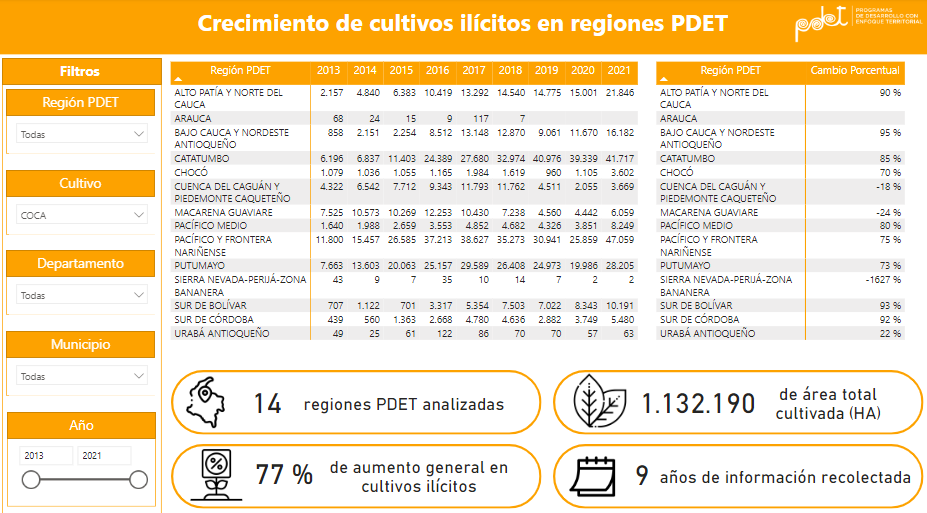

The page's visual inventory and layout, read from the dashboard file:
{"tool":"powerbi","page":{"name":"Datos","canvas":[1280,720],"ordinal":0},"visuals":[{"type":"pivotTable","fields":{"Rows":["BDD.Región PDET"],"Values":["Sum(BDD.Área cultivada (HA))"],"Columns":["Calendario.Date.Variación.Jerarquía de fechas.Año"]},"box":[232.7,82,667.3,395.1],"z":0},{"type":"shape","box":[0,0,1280.5,77.6],"z":1000},{"type":"image","box":[1090.2,0,190.2,71.7],"z":3000},{"type":"textbox","box":[0,5.5,1280,64.7],"z":4000},{"type":"shape","box":[5,82.2,219.8,632.5],"z":5000},{"type":"shape","box":[5,82.2,219.8,36.9],"z":6000},{"type":"textbox","box":[0,82.2,224.8,36.9],"z":7000},{"type":"shape","box":[11.5,125.7,204.9,89.3],"z":7000,"group":"g5"},{"type":"shape","box":[11.7,125.5,204.7,36.9],"z":8000,"group":"g5"},{"type":"group","id":"g1","title":"Grupo 1","box":[11.7,569.3,204.9,130.2],"z":8000},{"type":"slicer","fields":{"Values":["BDD.Región PDET"]},"box":[15.1,162.4,201.3,52],"z":9000,"group":"g5"},{"type":"group","id":"g2","title":"Grupo 2","box":[11.2,458.3,205.1,89.5],"z":9000},{"type":"textbox","box":[11.7,125.9,204.9,36.6],"z":10000,"group":"g5"},{"type":"group","id":"g3","title":"Grupo 3","box":[11.4,347.4,205.1,89.5],"z":10000},{"type":"group","id":"g4","title":"Grupo 4","box":[11.3,236.4,205.1,89.5],"z":11000},{"type":"shape","box":[11.3,236.6,204.9,89.3],"z":11000,"group":"g4"},{"type":"group","id":"g5","title":"Grupo 5","box":[11.5,125.5,205.1,89.5],"z":12000},{"type":"shape","box":[11.5,236.4,204.7,36.9],"z":12000,"group":"g4"},{"type":"tableEx","fields":{"Values":["BDD.Región PDET","BDD.Cambio Porcentual"]},"box":[900,82,374.6,395.1],"z":13000},{"type":"slicer","fields":{"Values":["BDD.CULTIVO"]},"box":[14.9,273.3,201.3,52],"z":13000,"group":"g4"},{"type":"textbox","box":[11.5,236.8,204.9,36.6],"z":14000,"group":"g4"},{"type":"shape","box":[763.9,511.7,510,88.9],"z":14000},{"type":"shape","box":[11.4,347.6,204.9,89.3],"z":15000,"group":"g3"},{"type":"shape","box":[238.6,511.7,510,88.9],"z":15000},{"type":"shape","box":[11.6,347.4,204.7,36.9],"z":16000,"group":"g3"},{"type":"shape","box":[763.3,614,510,88.9],"z":16000},{"type":"slicer","fields":{"Values":["BDD.Departamento"]},"box":[15,384.3,201.3,52],"z":17000,"group":"g3"},{"type":"shape","box":[238,614,510,88.9],"z":17000},{"type":"textbox","box":[11.6,347.8,204.9,36.6],"z":18000,"group":"g3"},{"type":"image","box":[245.4,511.7,80.5,88.9],"z":18000},{"type":"shape","box":[11.2,458.5,204.9,89.3],"z":19000,"group":"g2"},{"type":"card","fields":{"Values":["Count(BDD.Región PDET)"]},"box":[330.9,508.3,78.8,90.6],"z":19000},{"type":"shape","box":[11.4,458.3,204.7,36.9],"z":20000,"group":"g2"},{"type":"textbox","box":[371.2,523.4,374.1,70.5],"z":20000},{"type":"slicer","fields":{"Values":["BDD.Municipio"]},"box":[14.8,495.2,201.3,52],"z":21000,"group":"g2"},{"type":"image","box":[259.9,614,80.5,85.6],"z":21000},{"type":"textbox","box":[11.4,458.7,204.9,36.6],"z":22000,"group":"g2"},{"type":"card","fields":{"Values":["BDD.Cambio Porcentual"]},"box":[340.4,609,107.4,87.2],"z":22000},{"type":"textbox","box":[422.6,625.7,313.7,68.8],"z":23000},{"type":"card","fields":{"Values":["Sum(BDD.Área cultivada (HA))"]},"box":[861.2,510,203,85.6],"z":24000},{"type":"shape","box":[11.8,569.7,204.9,130.2],"z":24000,"group":"g1"},{"type":"image","box":[784,511.7,88.9,83.9],"z":25000},{"type":"shape","box":[11.7,569.3,204.7,36.9],"z":25000,"group":"g1"},{"type":"textbox","box":[1030.6,525.1,223.1,68.8],"z":26000},{"type":"textbox","box":[11.7,569.7,204.9,36.6],"z":26000,"group":"g1"},{"type":"slicer","fields":{"Values":["Calendario.Date.Variación.Jerarquía de fechas.Año"]},"box":[16.2,606.3,197.6,80.5],"z":26500,"group":"g1"},{"type":"card","fields":{"Values":["Count(BDD.AÑO)"]},"box":[845.9,607.3,79,90.7],"z":27000},{"type":"image","box":[780,622,74.6,73.2],"z":28000},{"type":"textbox","box":[897.1,639.5,373.2,46.8],"z":29000}]}

Visuals, with their boxes in screenshot pixels (x1, y1, x2, y2), scaled from the page's 1280x720 canvas onto the 927x513 screenshot:
pivotTable - BDD.Región PDET x Sum(BDD.Área cultivada (HA)): (left=169, top=58, right=652, bottom=340)
shape: (left=0, top=0, right=926, bottom=55)
image: (left=790, top=0, right=926, bottom=51)
textbox: (left=0, top=4, right=926, bottom=50)
shape: (left=4, top=59, right=163, bottom=509)
shape: (left=4, top=59, right=163, bottom=85)
textbox: (left=0, top=59, right=163, bottom=85)
shape: (left=8, top=90, right=157, bottom=153)
shape: (left=8, top=89, right=157, bottom=116)
"Grupo 1" group: (left=8, top=406, right=157, bottom=498)
slicer - BDD.Región PDET: (left=11, top=116, right=157, bottom=153)
"Grupo 2" group: (left=8, top=327, right=157, bottom=390)
textbox: (left=8, top=90, right=157, bottom=116)
"Grupo 3" group: (left=8, top=248, right=157, bottom=311)
"Grupo 4" group: (left=8, top=168, right=157, bottom=232)
shape: (left=8, top=169, right=157, bottom=232)
"Grupo 5" group: (left=8, top=89, right=157, bottom=153)
shape: (left=8, top=168, right=157, bottom=195)
tableEx - BDD.Región PDET x BDD.Cambio Porcentual: (left=652, top=58, right=923, bottom=340)
slicer - BDD.CULTIVO: (left=11, top=195, right=157, bottom=232)
textbox: (left=8, top=169, right=157, bottom=195)
shape: (left=553, top=365, right=923, bottom=428)
shape: (left=8, top=248, right=157, bottom=311)
shape: (left=173, top=365, right=542, bottom=428)
shape: (left=8, top=248, right=157, bottom=274)
shape: (left=553, top=437, right=922, bottom=501)
slicer - BDD.Departamento: (left=11, top=274, right=157, bottom=311)
shape: (left=172, top=437, right=542, bottom=501)
textbox: (left=8, top=248, right=157, bottom=274)
image: (left=178, top=365, right=236, bottom=428)
shape: (left=8, top=327, right=157, bottom=390)
card - Count(BDD.Región PDET): (left=240, top=362, right=297, bottom=427)
shape: (left=8, top=327, right=157, bottom=353)
textbox: (left=269, top=373, right=540, bottom=423)
slicer - BDD.Municipio: (left=11, top=353, right=157, bottom=390)
image: (left=188, top=437, right=247, bottom=498)
textbox: (left=8, top=327, right=157, bottom=353)
card - BDD.Cambio Porcentual: (left=247, top=434, right=324, bottom=496)
textbox: (left=306, top=446, right=533, bottom=495)
card - Sum(BDD.Área cultivada (HA)): (left=624, top=363, right=771, bottom=424)
shape: (left=9, top=406, right=157, bottom=499)
image: (left=568, top=365, right=632, bottom=424)
shape: (left=8, top=406, right=157, bottom=432)
textbox: (left=746, top=374, right=908, bottom=423)
textbox: (left=8, top=406, right=157, bottom=432)
slicer - Calendario.Date.Variación.Jerarquía de fechas.Año: (left=12, top=432, right=155, bottom=489)
card - Count(BDD.AÑO): (left=613, top=433, right=670, bottom=497)
image: (left=565, top=443, right=619, bottom=495)
textbox: (left=650, top=456, right=920, bottom=489)
